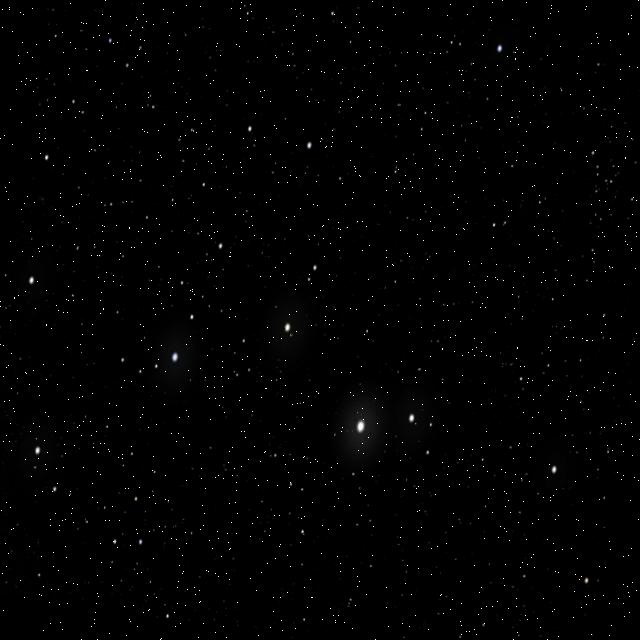Ara: (163, 89, 520, 570)
